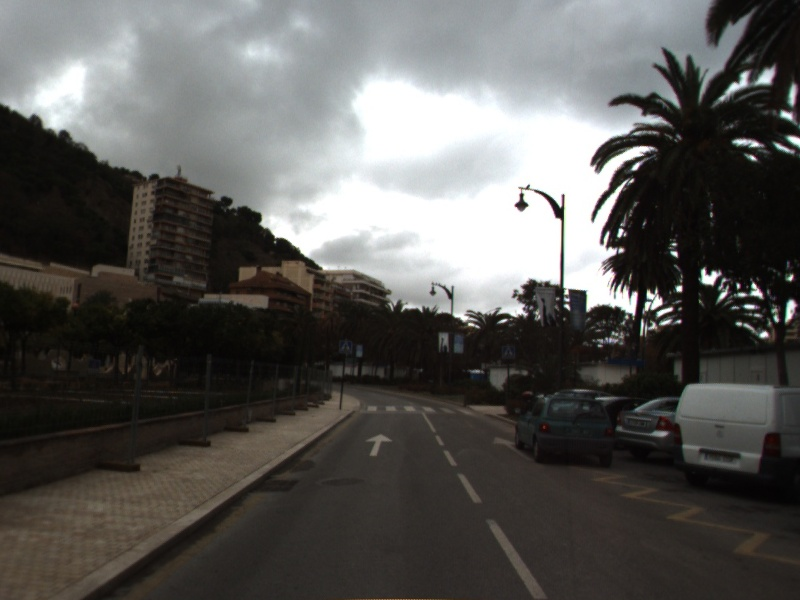STRAIGHT: (492, 435, 537, 462), (363, 432, 395, 458)
